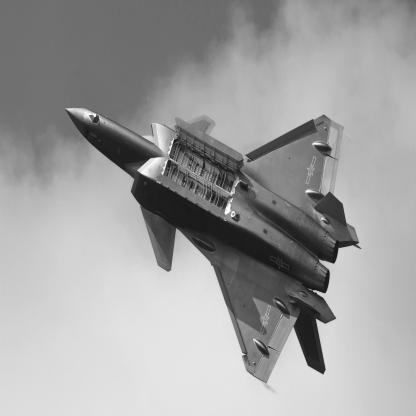J20: (66, 108, 363, 385)
